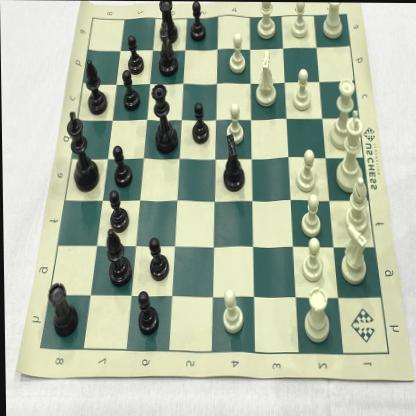black-bishop: (104, 229, 132, 287), (83, 57, 107, 116)
black-king: (65, 108, 99, 195)
black-knight: (221, 131, 245, 192), (156, 22, 180, 77)
black-pawn: (147, 235, 170, 284), (136, 289, 158, 338), (107, 190, 130, 233), (121, 70, 142, 114), (112, 144, 132, 188), (126, 33, 146, 74), (188, 1, 208, 42), (191, 102, 210, 144)
black-queen: (152, 82, 177, 155)
black-rook: (47, 277, 79, 340), (158, 1, 180, 44)
white-bishop: (344, 175, 371, 233), (255, 2, 278, 39)
white-king: (334, 109, 366, 194)
white-knight: (339, 220, 370, 283), (256, 50, 278, 106)
white-pawn: (300, 236, 324, 282), (221, 287, 245, 332), (227, 30, 249, 76), (295, 148, 318, 191), (299, 194, 322, 236), (225, 101, 246, 146), (292, 66, 312, 111), (290, 2, 309, 41)
white-queen: (327, 76, 359, 152)
white-rook: (301, 284, 331, 345), (320, 2, 345, 41)
